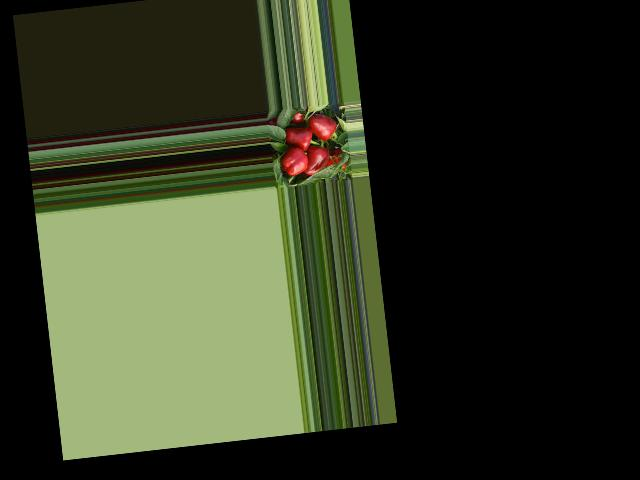bell_pepper: (279, 139, 310, 179)
